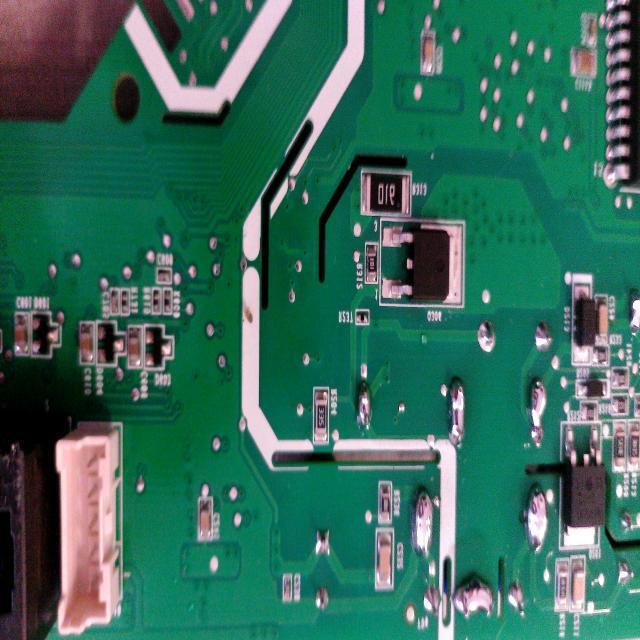Soldering shorted: (446, 570, 496, 624), (520, 472, 548, 561), (408, 481, 435, 562), (443, 374, 468, 452), (526, 370, 549, 452), (354, 378, 374, 433), (623, 296, 640, 338)
